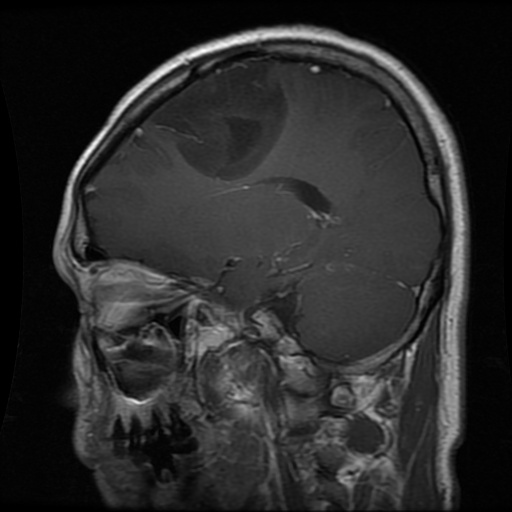glioma: (144, 63, 288, 177)
